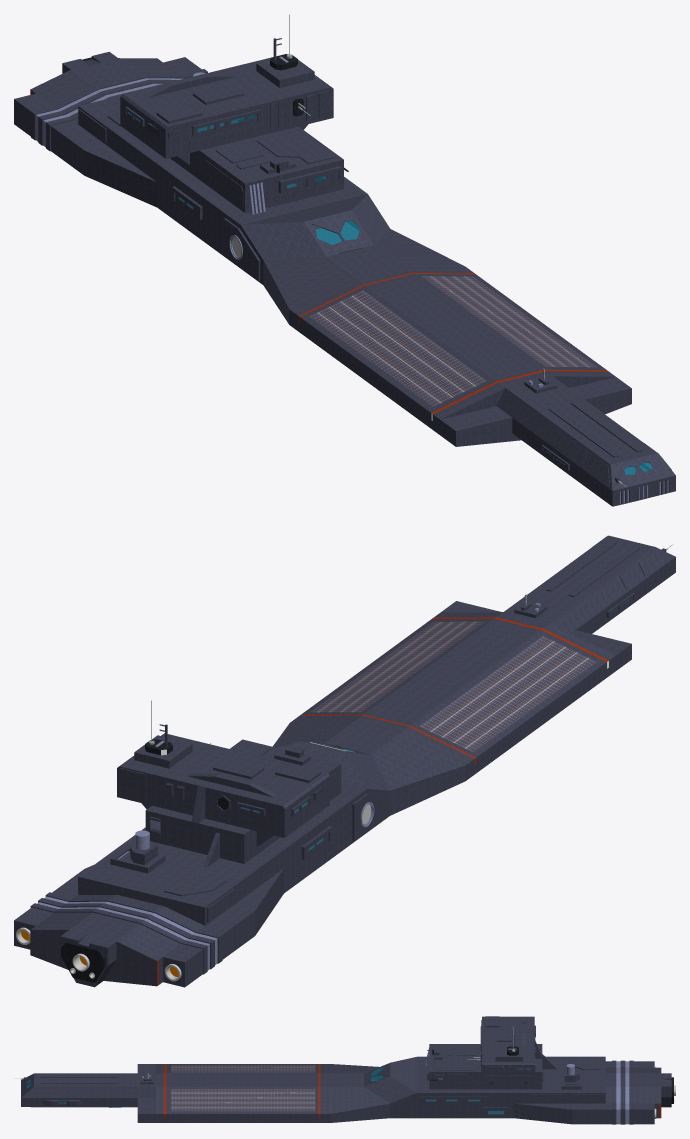
Rendered from Space ship5 collor.dae.
The picture shows the model from 3 angles, top to bottom: view 1: azimuth 30°, elevation 25°; view 2: azimuth 150°, elevation 25°; view 3: azimuth 270°, elevation 25°; orthographic projection. The views are drawn at different scales.
Visible parts, largest first — view 1: Model; view 2: Model; view 3: Model.
Boxes of the visible parts, x1=… form: Model: x1=14, y1=14, x2=675, y2=506; Model: x1=14, y1=535, x2=675, y2=987; Model: x1=14, y1=1016, x2=675, y2=1124.
Bounding box in the file's own units: 1029 × 5772 × 954.
